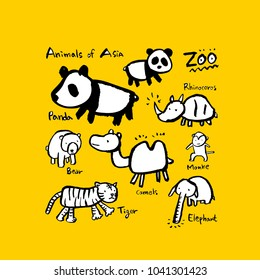animal: (49, 61, 142, 129), (35, 180, 140, 229), (90, 130, 180, 186), (150, 89, 227, 128), (43, 124, 85, 178), (125, 42, 174, 88), (179, 129, 226, 172)
elephant: (165, 176, 230, 230)
